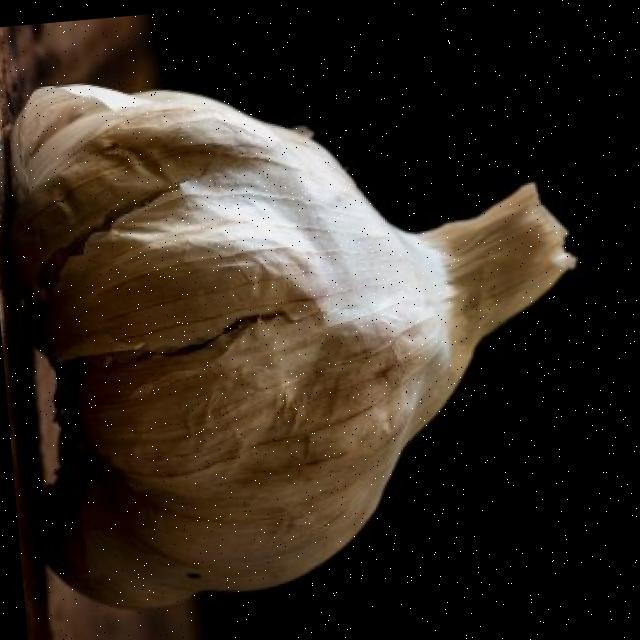garlic: (0, 84, 574, 608)
